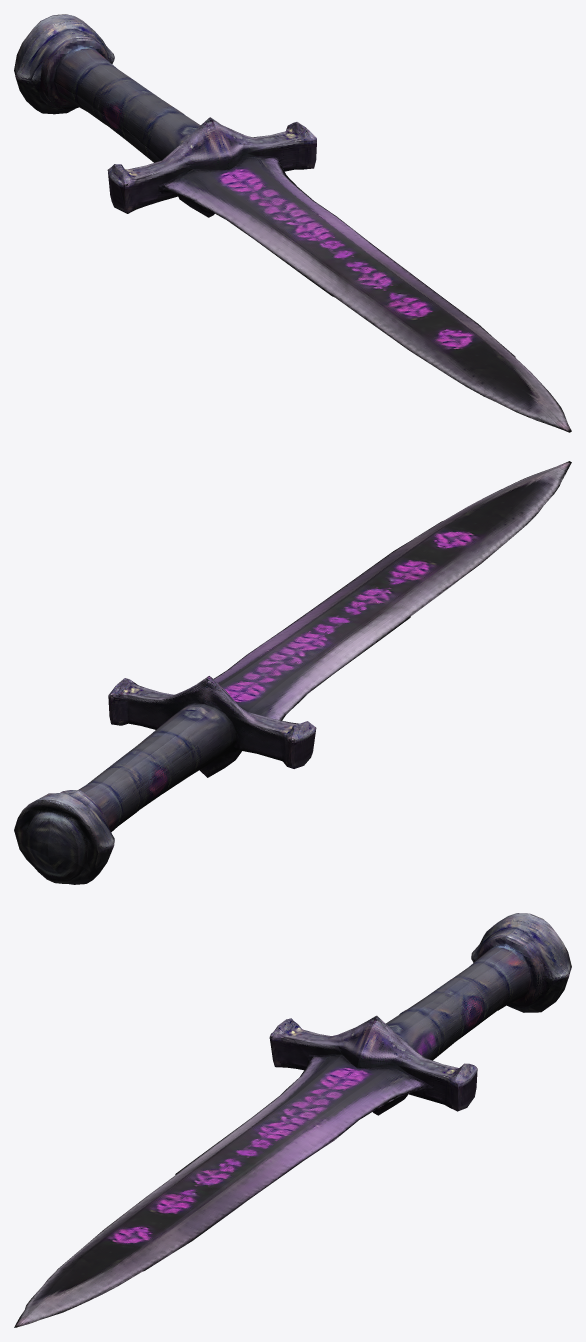
File: 3d-metal-sword (2).glb
The picture shows the model from 3 angles, top to bottom: view 1: azimuth 30°, elevation 25°; view 2: azimuth 150°, elevation 25°; view 3: azimuth 330°, elevation 25°; orthographic projection.
Visible parts, largest first — view 1: world; view 2: world; view 3: world.
Boxes of the visible parts, x1=… form: world: x1=14, y1=14, x2=571, y2=432; world: x1=14, y1=461, x2=571, y2=884; world: x1=14, y1=913, x2=571, y2=1327.
Bounding box in the file's own units: 0.2151 × 0.1078 × 0.9966.
1 material, 1 textured.
